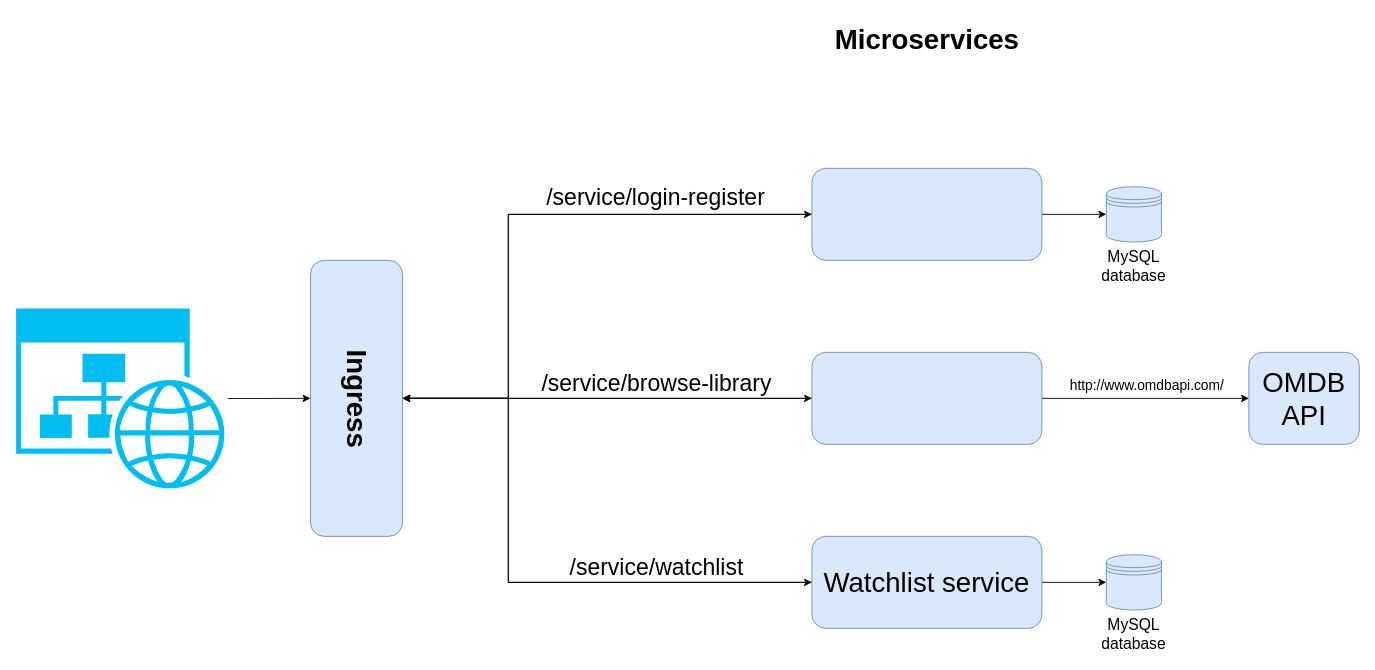
Image size: 1375x670. Some labels were removed from this diagram. The centre of each missing label's shape, as x and y in pixels:
Browse library service: point 926,397
Login register service: point 926,213
Web Application: point 121,398
